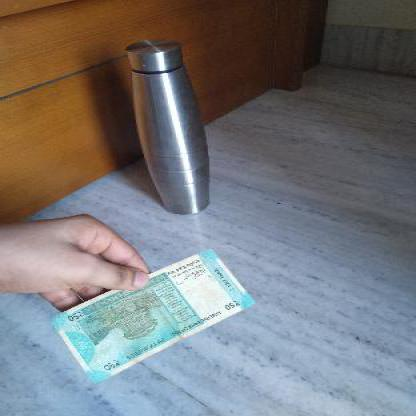New50Back: (52, 249, 255, 385)
